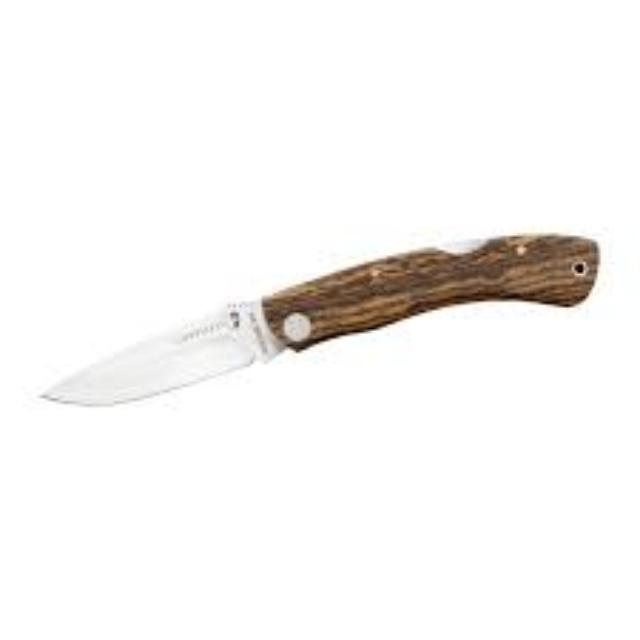Knife: (37, 231, 597, 407)
